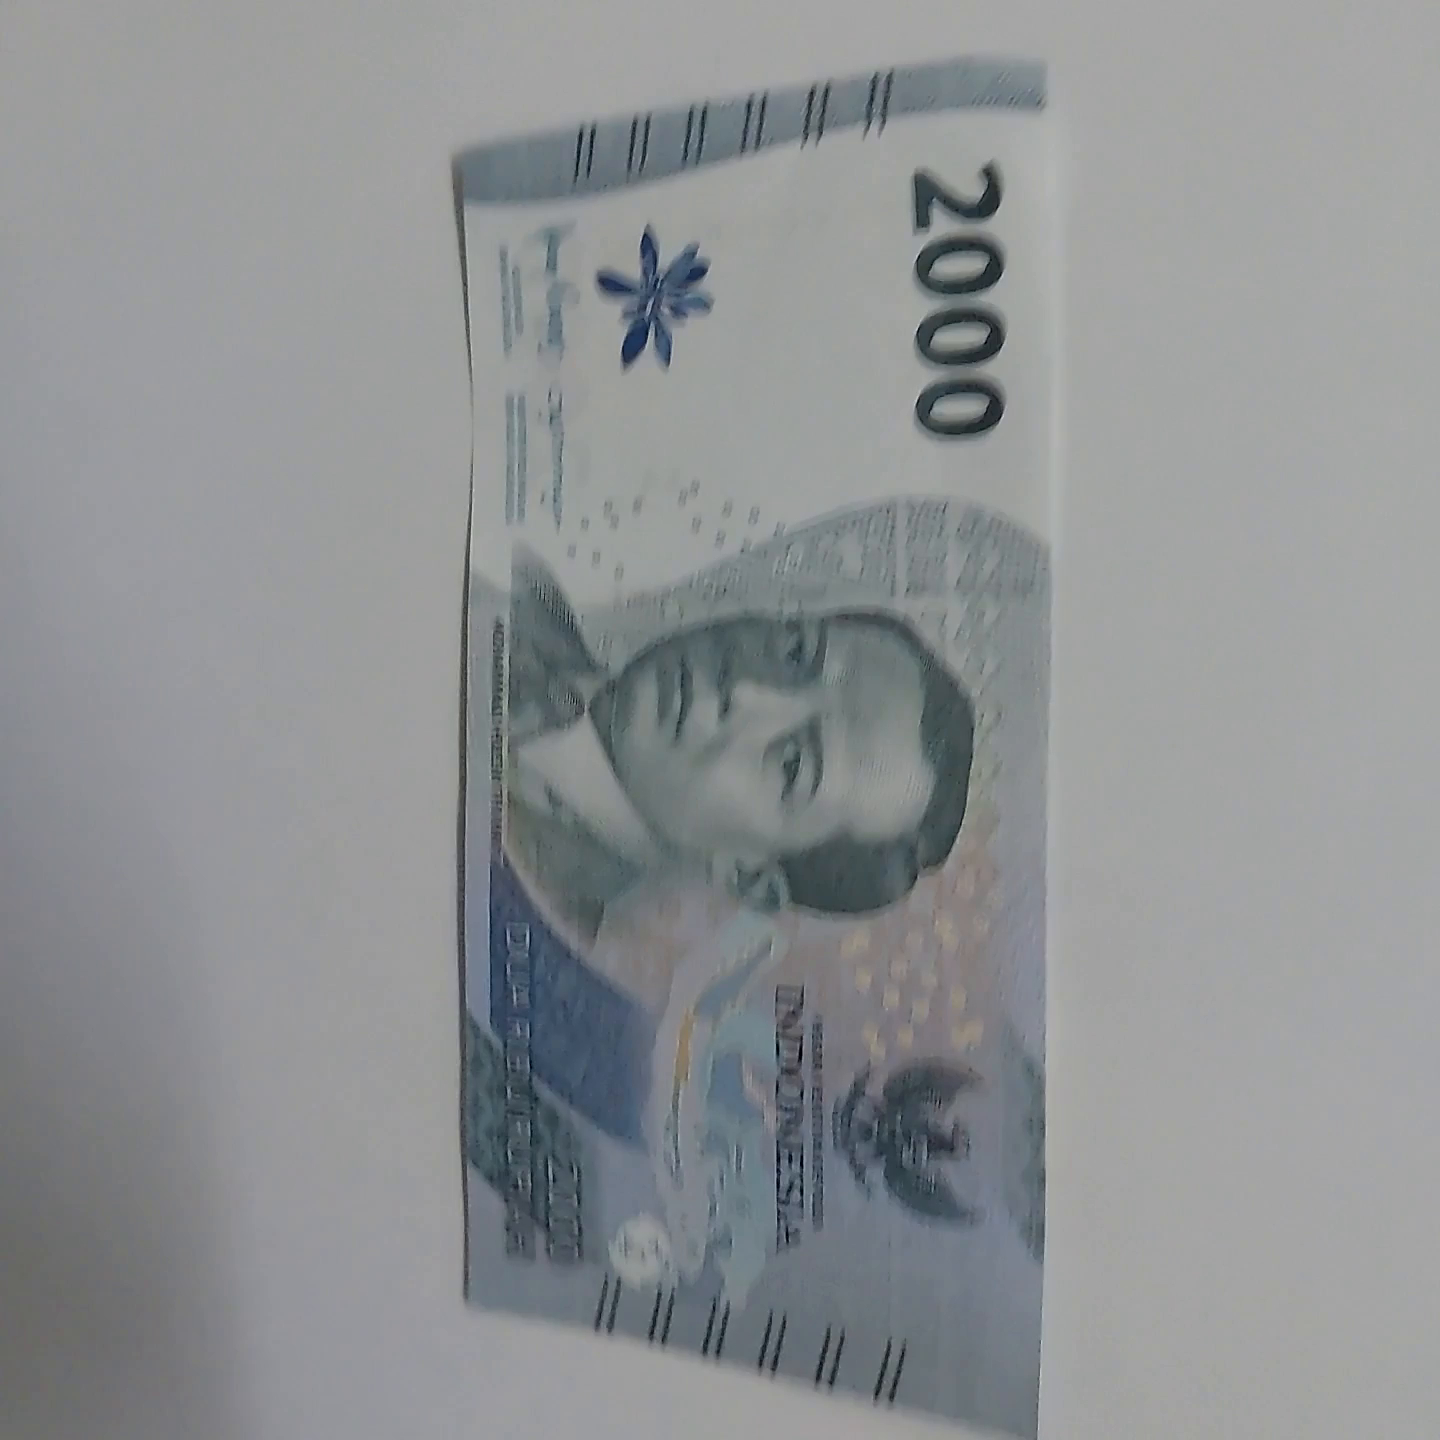2k: (418, 88, 1054, 1440)
